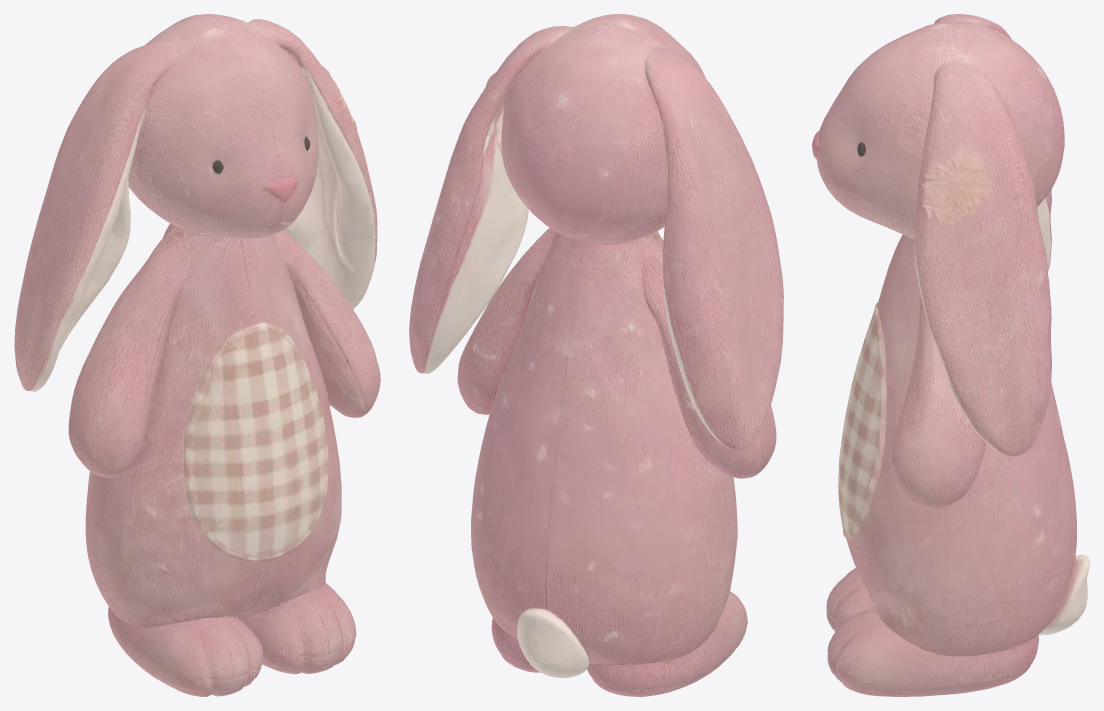
The model's file is mimi.glb.
3 views of the same model, side by side, from view 1: azimuth 30°, elevation 25°; view 2: azimuth 150°, elevation 25°; view 3: azimuth 270°, elevation 25° (orthographic). The views are drawn at different scales.
Parts seen in each view (by area): view 1: Mesh_0; view 2: Mesh_0; view 3: Mesh_0.
Part boxes in pixels (<box>): Mesh_0: <box>14,14,380,696</box>; Mesh_0: <box>409,14,783,696</box>; Mesh_0: <box>812,14,1089,696</box>.
Size of the model in its own units: 1.06 by 1.9 by 0.7582.
Materials: 1 (1 with a texture image).
